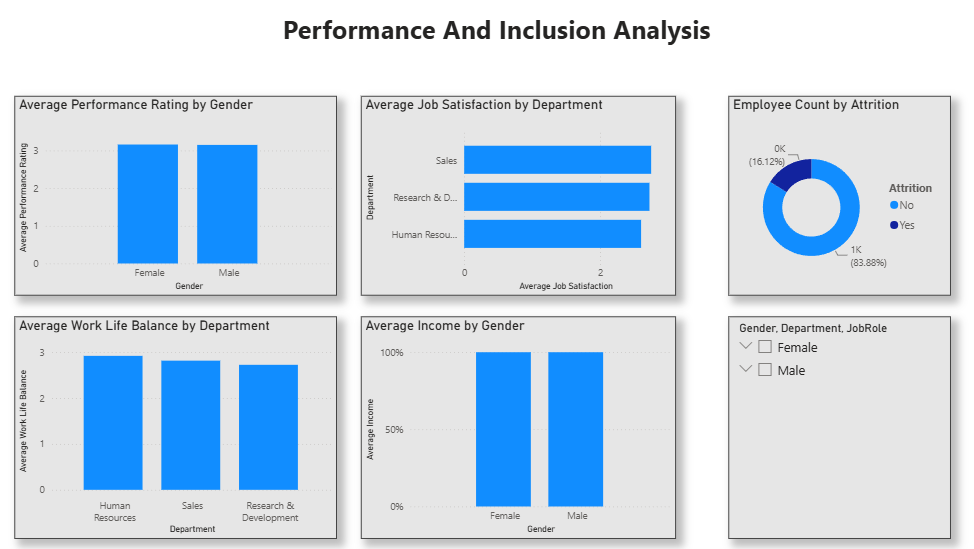

What the dashboard file says about the page in this screenshot:
{"tool":"powerbi","page":{"name":"Performance And Inlcusion Analysis","canvas":[1280,720],"ordinal":2},"visuals":[{"type":"lineClusteredColumnComboChart","fields":{"Category":["dataset.Gender"],"Y":["dataset.Average Performance Rating"]},"box":[32.1,139.8,406.3,251.3],"z":0},{"type":"barChart","fields":{"Category":["dataset.Department"],"Y":["dataset.Average Job Satisfaction"]},"box":[468.7,139.8,396.9,251.3],"z":1000},{"type":"columnChart","fields":{"Category":["dataset.Department"],"Y":["dataset.Average Work Life Balance"]},"box":[32.1,417.6,406.3,279.7],"z":2000},{"type":"hundredPercentStackedColumnChart","fields":{"Category":["dataset.Gender"],"Y":["dataset.Average Income"]},"box":[468.7,417.6,396.9,279.7],"z":3000},{"type":"donutChart","fields":{"Category":["dataset.Attrition"],"Y":["dataset.Employee Count"]},"box":[931.7,139.8,279.7,251.3],"z":4000},{"type":"slicer","fields":{"Values":["dataset.Gender","dataset.Department","dataset.JobRole"]},"box":[931.7,417.6,279.7,279.7],"z":5000},{"type":"textbox","box":[0,28.3,1279.4,98.3],"z":6000}]}

Visuals, with their boxes in screenshot pixels (x1, y1, x2, y2), scaled from the page's 1280x720 canvas onto the 974x549 screenshot:
lineClusteredColumnComboChart - dataset.Gender x dataset.Average Performance Rating: bbox(24, 107, 334, 298)
barChart - dataset.Department x dataset.Average Job Satisfaction: bbox(357, 107, 659, 298)
columnChart - dataset.Department x dataset.Average Work Life Balance: bbox(24, 318, 334, 532)
hundredPercentStackedColumnChart - dataset.Gender x dataset.Average Income: bbox(357, 318, 659, 532)
donutChart - dataset.Attrition x dataset.Employee Count: bbox(709, 107, 922, 298)
slicer - dataset.Gender x dataset.Department: bbox(709, 318, 922, 532)
textbox: bbox(0, 22, 973, 97)
